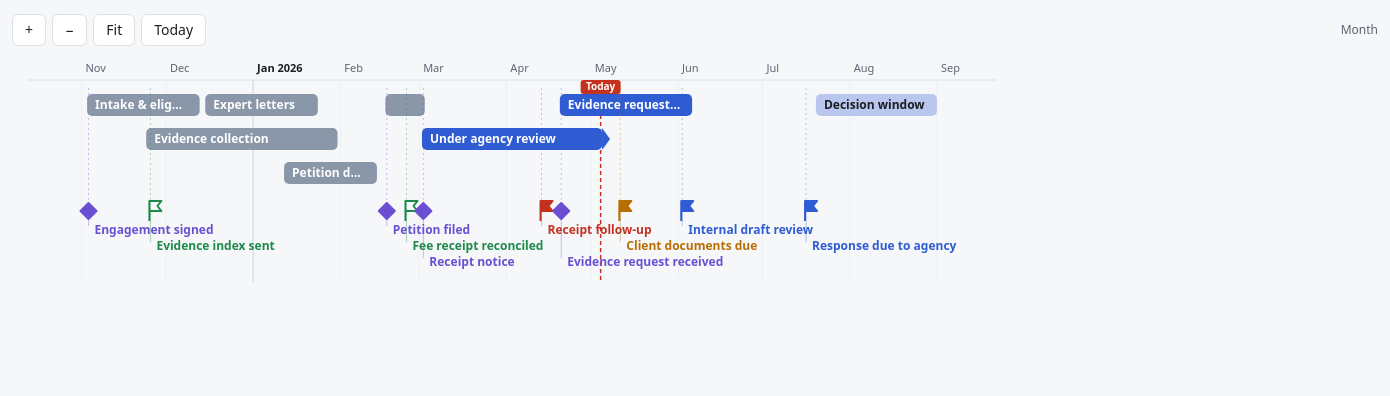
it: <Timeline> › zooms with the toolbar and the keyboard, and picks finer ticks
Click the button named "Zoom in" at (29, 30), box 12,14 -> 46,46
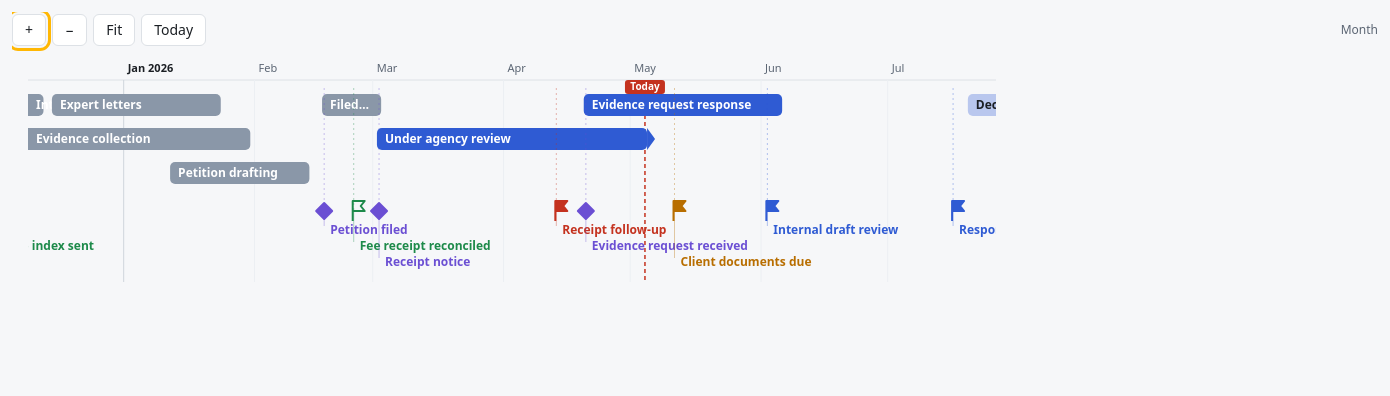
Click the button named "Zoom in" at (29, 30), box 12,14 -> 46,46
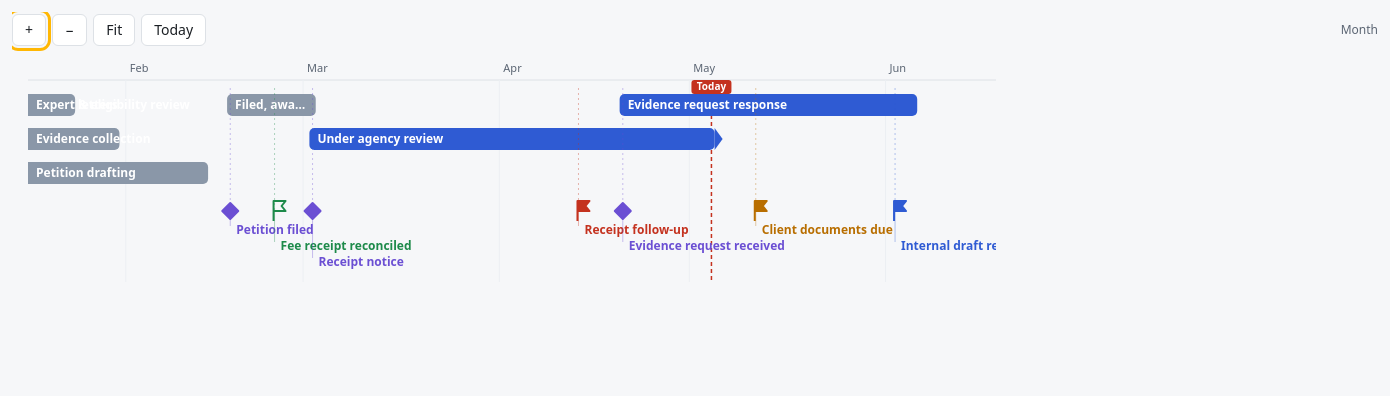
Click the button named "Zoom in" at (29, 30), box 12,14 -> 46,46
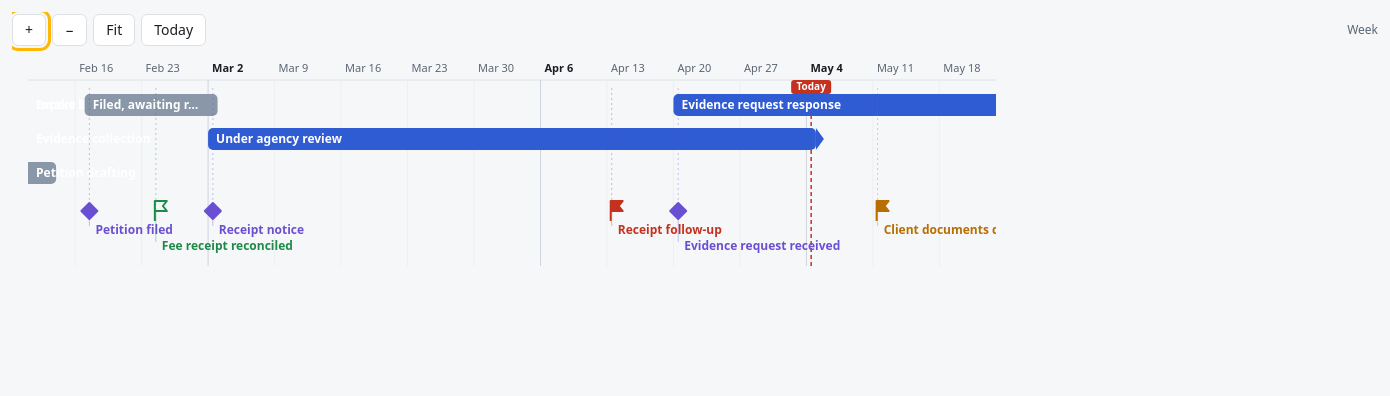
Click the button named "Zoom in" at (29, 30), box 12,14 -> 46,46
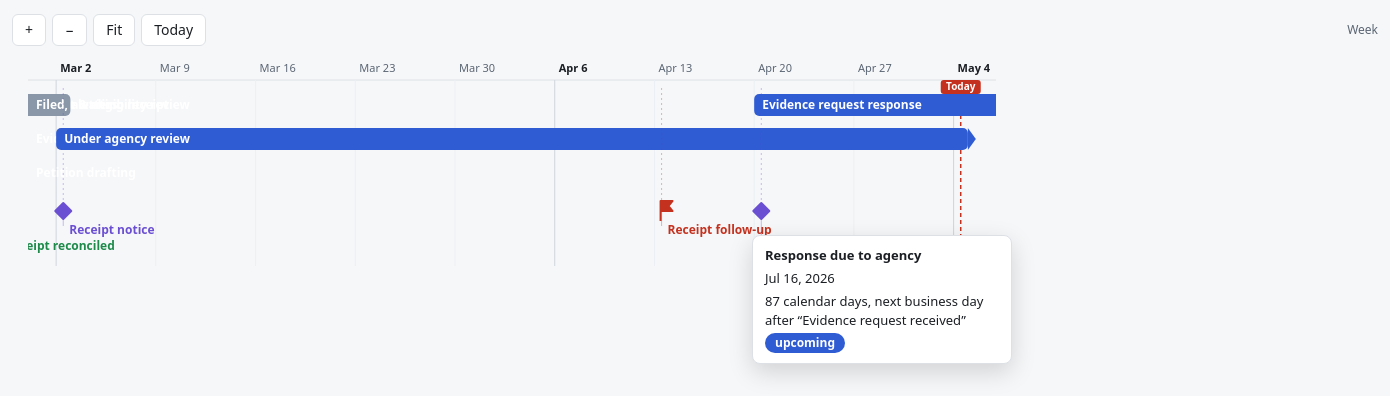
Check: the text with test id "tick-unit" reads "week", box 1347,21 -> 1378,38
Type keys "++++"
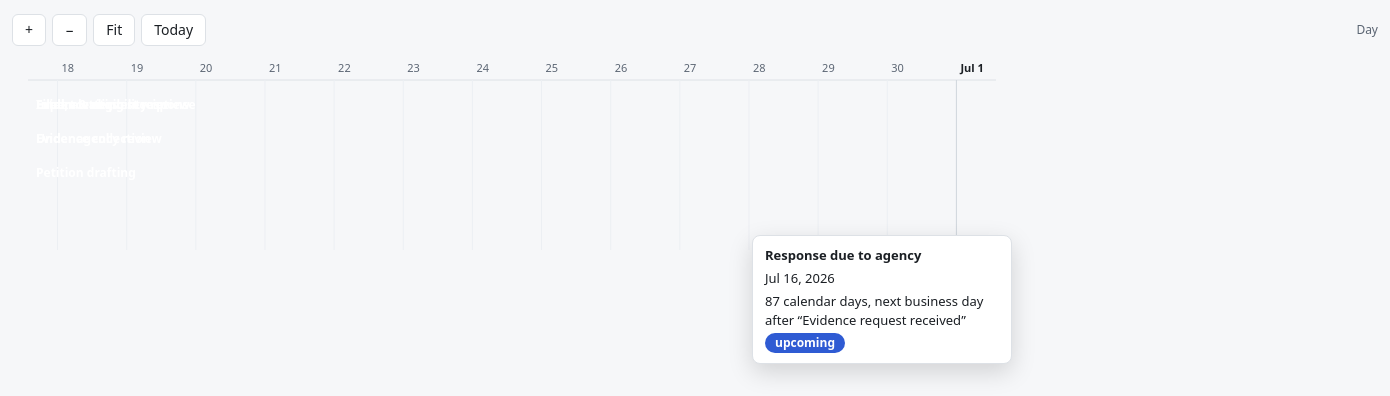
Check: the text with test id "tick-unit" reads "day", box 1356,21 -> 1378,38
Type keys "0"
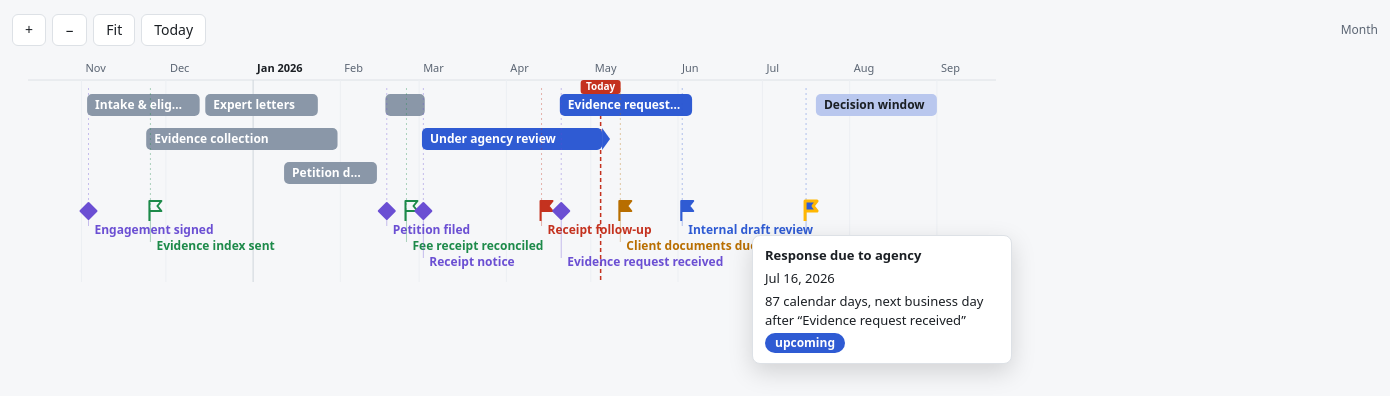
Check: the text with test id "tick-unit" reads "month", box 1341,21 -> 1378,38
